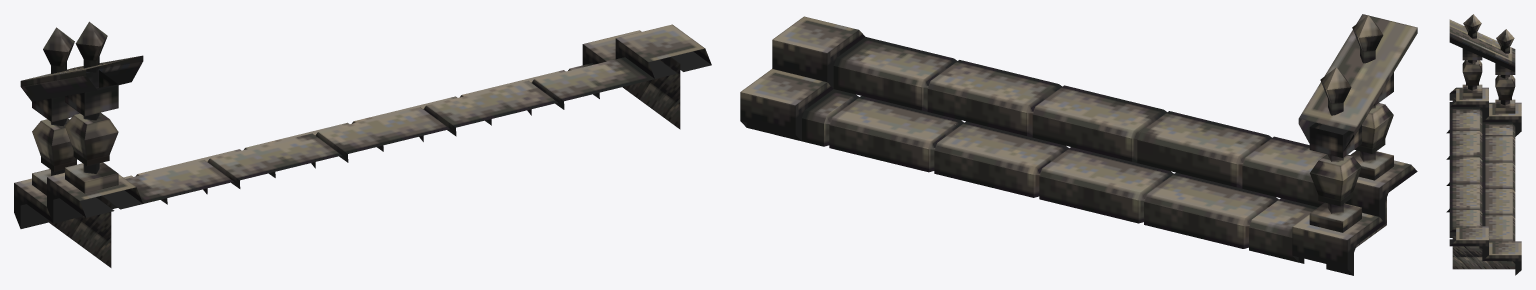
Rendered from EnvMdrMD_Castle_A_Stairs_A_Loop_Half.FBX.
The picture shows the model from 3 angles, left to right: view 1: azimuth 30°, elevation 25°; view 2: azimuth 150°, elevation 25°; view 3: azimuth 270°, elevation 25°; orthographic projection. The views are drawn at different scales.
Parts seen in each view (by area): view 1: EnvMdrMD_Castle_A_Stairs_A_Loop_Half; view 2: EnvMdrMD_Castle_A_Stairs_A_Loop_Half; view 3: EnvMdrMD_Castle_A_Stairs_A_Loop_Half.
Boxes of the visible parts, x1=… form: EnvMdrMD_Castle_A_Stairs_A_Loop_Half: x1=14, y1=21, x2=711, y2=267; EnvMdrMD_Castle_A_Stairs_A_Loop_Half: x1=740, y1=14, x2=1417, y2=275; EnvMdrMD_Castle_A_Stairs_A_Loop_Half: x1=1446, y1=14, x2=1521, y2=275.
Bounding box in the file's own units: 550 × 195 × 115.
Materials: 1 (1 with a texture image).
